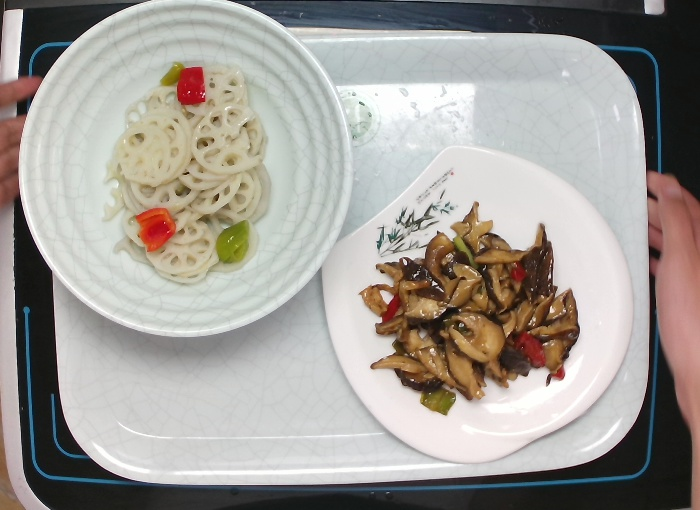JYsf-Da_Tang_Wan: (13, 1, 355, 340)
JYsf-Mian_Pan: (313, 133, 639, 465)
